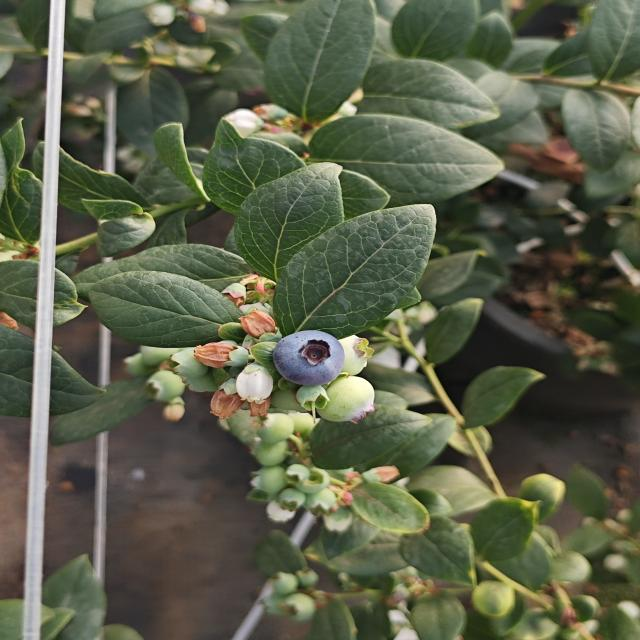ripe: (268, 328, 350, 387)
